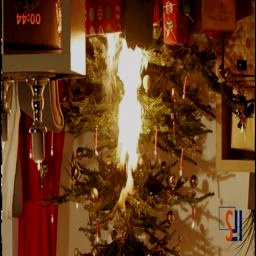fire: (98, 28, 153, 208)
